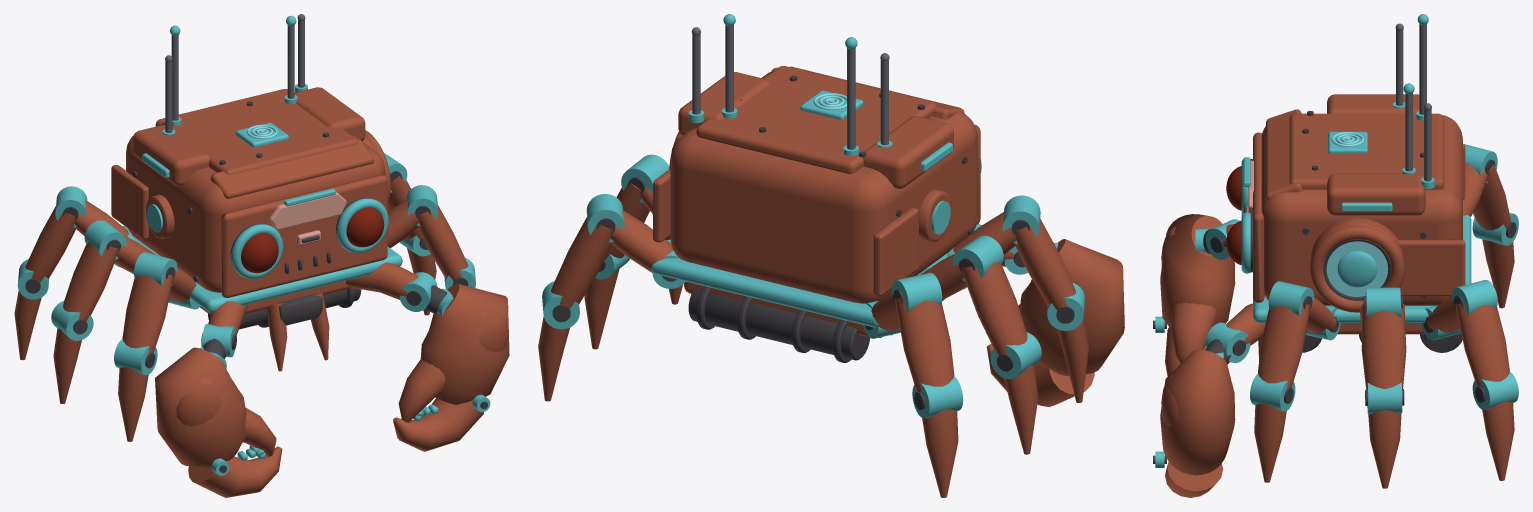
File: typical_creature_robot_crab.glb
The picture shows the model from 3 angles, left to right: view 1: azimuth 30°, elevation 25°; view 2: azimuth 150°, elevation 25°; view 3: azimuth 270°, elevation 25°; orthographic projection. The views are drawn at different scales.
Visible parts, largest first — view 1: Body_Shell, Top_Armor_Panel, Face_Plate, Claw_Palm_R, Claw_Palm_L, Leg_Joint_Discs_R, Top_Front_Brow_Plate, Claw_Movable_Finger_L, Leg_Tibia_R1, Side_Top_Module_R, Body_Teal_Trim_Band, Claw_Movable_Finger_R (+35 smaller); view 2: Body_Shell, Top_Armor_Panel, Leg_Joint_Discs_R, Claw_Palm_R, Under_Mechanism, Body_Teal_Trim_Band, Leg_Tibia_R3, Leg_Joint_Discs_L, Side_Top_Module_R, Leg_Tibia_R2, Antenna_Rods, Side_Rear_Panel_R (+21 smaller); view 3: Body_Shell, Top_Armor_Panel, Claw_Palm_L, Leg_Joint_Discs_L, Claw_Palm_R, Side_Top_Module_L, Side_Rear_Panel_L, Leg_Tibia_L2, Leg_Tibia_L1, Leg_Tibia_L3, Side_Lens_Rim, Antenna_Rods (+33 smaller).
Part boxes in pixels (x1,y1,x2,y2): Body_Shell: [126, 135, 385, 292]; Top_Armor_Panel: [155, 89, 358, 174]; Face_Plate: [221, 175, 387, 297]; Claw_Palm_R: [155, 347, 246, 468]; Claw_Palm_L: [420, 283, 509, 404]; Leg_Joint_Discs_R: [17, 186, 200, 375]; Top_Front_Brow_Plate: [210, 138, 374, 198]; Claw_Movable_Finger_L: [393, 398, 483, 451]; Leg_Tibia_R1: [122, 274, 173, 353]; Side_Top_Module_R: [132, 124, 210, 186]; Body_Teal_Trim_Band: [123, 226, 402, 312]; Claw_Movable_Finger_R: [188, 446, 282, 497]; Body_Shell: [670, 72, 977, 303]; Top_Armor_Panel: [696, 66, 936, 173]; Leg_Joint_Discs_R: [863, 195, 1085, 418]; Claw_Palm_R: [1020, 239, 1124, 376]; Under_Mechanism: [688, 286, 892, 362]; Body_Teal_Trim_Band: [650, 224, 981, 327]; Leg_Tibia_R3: [895, 298, 954, 392]; Leg_Joint_Discs_L: [542, 154, 685, 329]; Side_Top_Module_R: [862, 116, 953, 188]; Leg_Tibia_R2: [962, 262, 1027, 355]; Antenna_Rods: [691, 25, 889, 149]; Side_Rear_Panel_R: [873, 208, 918, 296]; Body_Shell: [1261, 115, 1462, 305]; Top_Armor_Panel: [1289, 113, 1444, 189]; Claw_Palm_L: [1160, 349, 1235, 475]; Leg_Joint_Discs_L: [1250, 280, 1518, 414]; Claw_Palm_R: [1160, 214, 1235, 328]; Side_Top_Module_L: [1327, 173, 1425, 215]; Side_Rear_Panel_L: [1398, 239, 1465, 296]; Leg_Tibia_L2: [1361, 303, 1406, 390]; Leg_Tibia_L1: [1258, 304, 1310, 388]; Leg_Tibia_L3: [1455, 303, 1509, 387]; Side_Lens_Rim: [1310, 225, 1404, 312]; Antenna_Rods: [1395, 23, 1431, 181].
Size of the model in its own units: 1 by 0.9494 by 0.7893.
